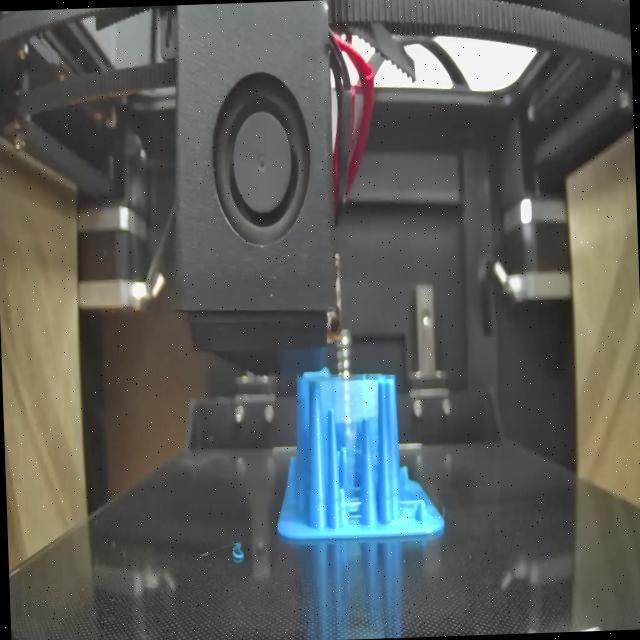stringing: (321, 373, 382, 428), (338, 489, 367, 528), (396, 496, 422, 510)
